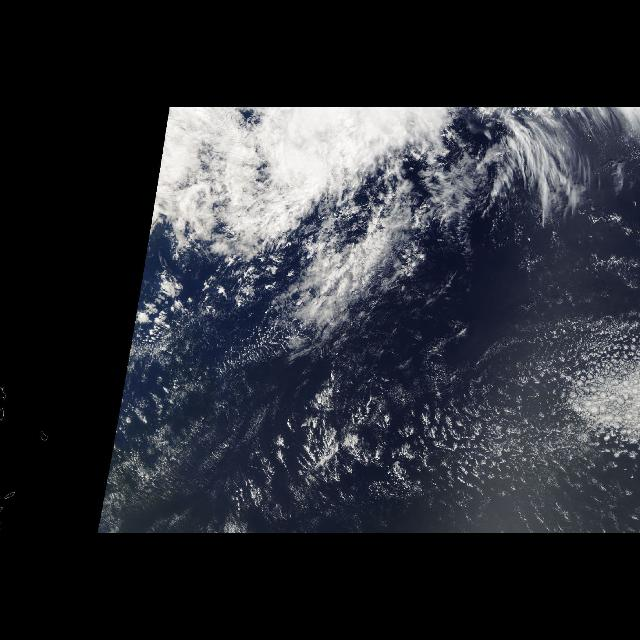Gravel: (368, 293, 638, 531)
Sugar: (132, 314, 638, 528)
